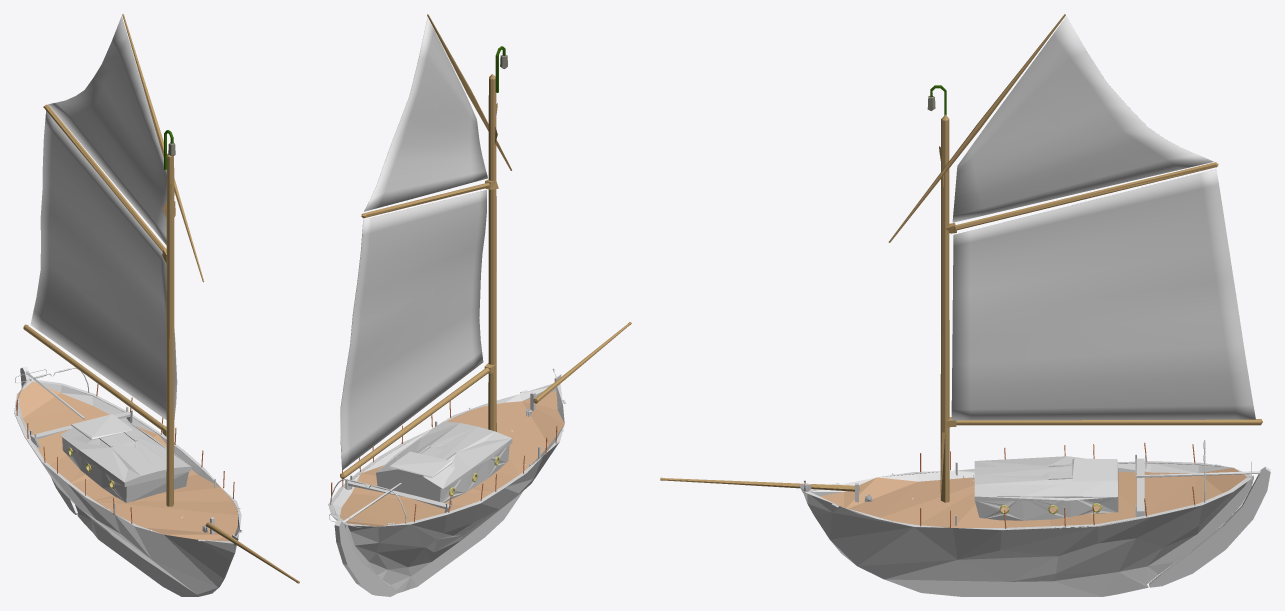
The model's file is boat.fbx.
3 views of the same model, side by side, from view 1: azimuth 30°, elevation 25°; view 2: azimuth 150°, elevation 25°; view 3: azimuth 270°, elevation 25° (orthographic). The views are drawn at different scales.
Parts seen in each view (by area): view 1: ship, Plane.001, Plane, mast, mast2, boom, upper mast, rudder, staysail b; view 2: Plane.001, ship, Plane, mast, rudder, boom, mast2, upper mast, staysail b; view 3: Plane.001, ship, Plane, mast, rudder, boom, mast2, upper mast, staysail b.
Part boxes in pixels (<box>): ship: <box>14,367,242,596</box>; Plane.001: <box>30,111,177,419</box>; Plane: <box>48,16,174,245</box>; mast: <box>163,154,175,506</box>; mast2: <box>43,104,167,263</box>; boom: <box>23,324,166,436</box>; upper mast: <box>122,14,204,282</box>; rudder: <box>20,366,84,514</box>; staysail b: <box>206,522,299,583</box>; Plane.001: <box>340,190,486,470</box>; ship: <box>328,368,566,593</box>; Plane: <box>364,17,487,211</box>; mast: <box>488,74,497,431</box>; rudder: <box>334,483,401,596</box>; boom: <box>340,363,495,478</box>; mast2: <box>361,179,498,218</box>; upper mast: <box>427,14,511,170</box>; staysail b: <box>533,322,631,403</box>; Plane.001: <box>951,169,1255,420</box>; ship: <box>799,440,1253,596</box>; Plane: <box>952,16,1213,222</box>; mast: <box>939,114,949,502</box>; rudder: <box>1135,466,1270,587</box>; boom: <box>946,417,1262,427</box>; mast2: <box>945,162,1218,233</box>; upper mast: <box>888,14,1065,242</box>; staysail b: <box>660,477,859,491</box>.
Bounding box in the file's own units: 366 × 1547 × 1461.
